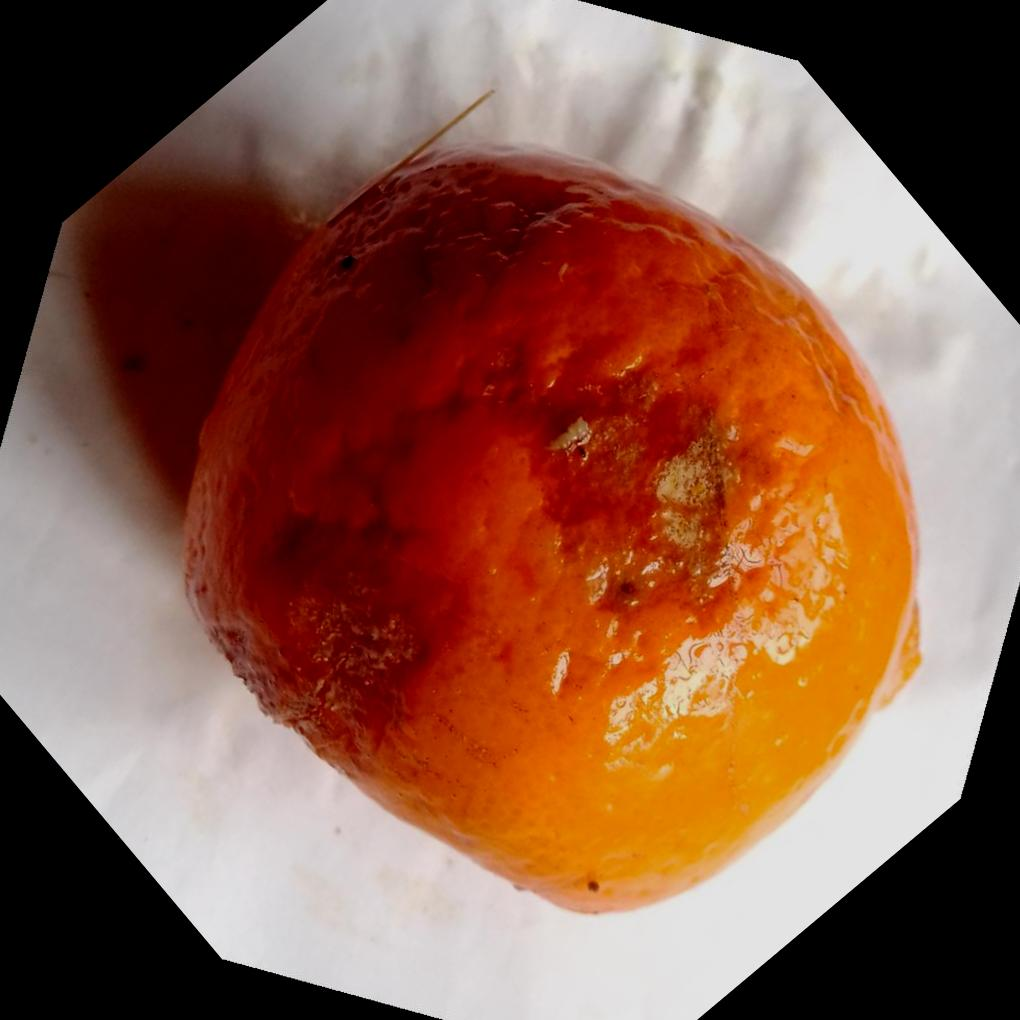FreshOrange: (178, 132, 922, 915)
